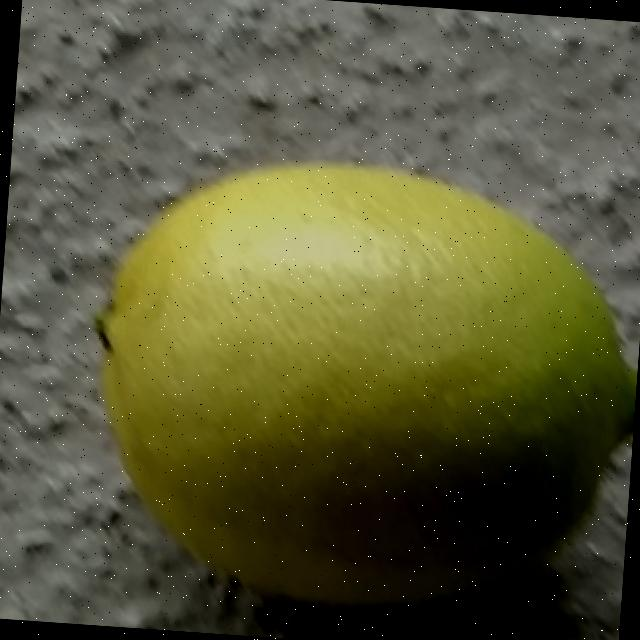Lemon: (74, 146, 640, 627)
